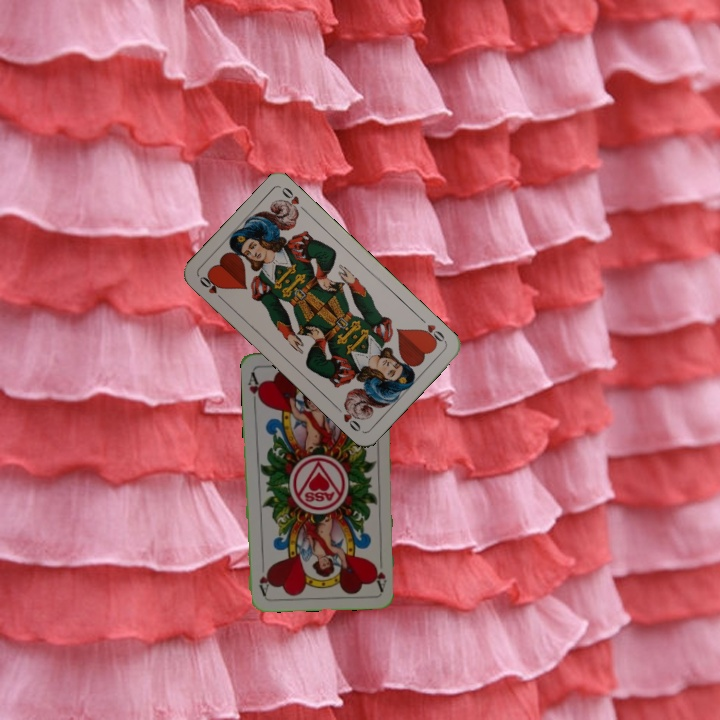HA: (244, 368, 264, 408), (370, 552, 389, 593)
HO: (415, 313, 448, 347), (195, 272, 228, 304)
